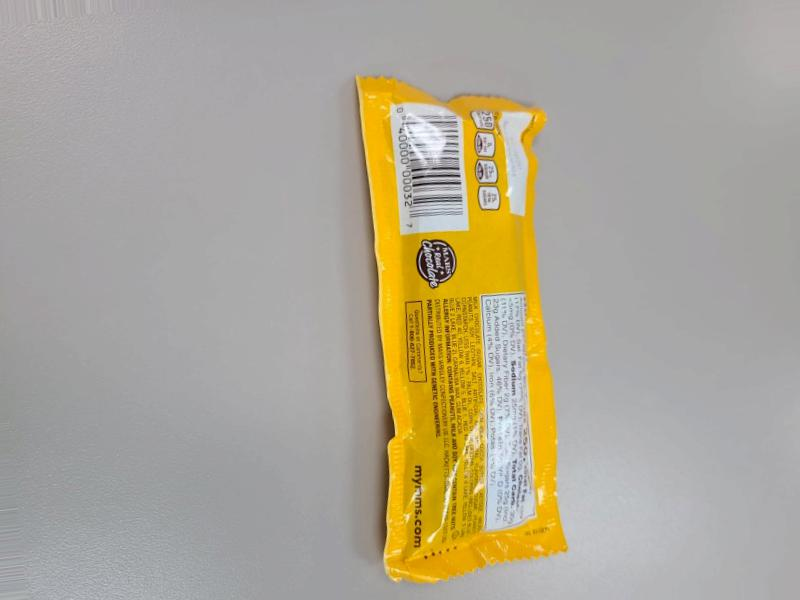m&m: (346, 94, 567, 586)
